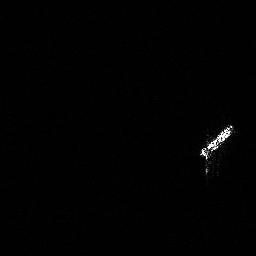ship: (194, 120, 238, 176)
